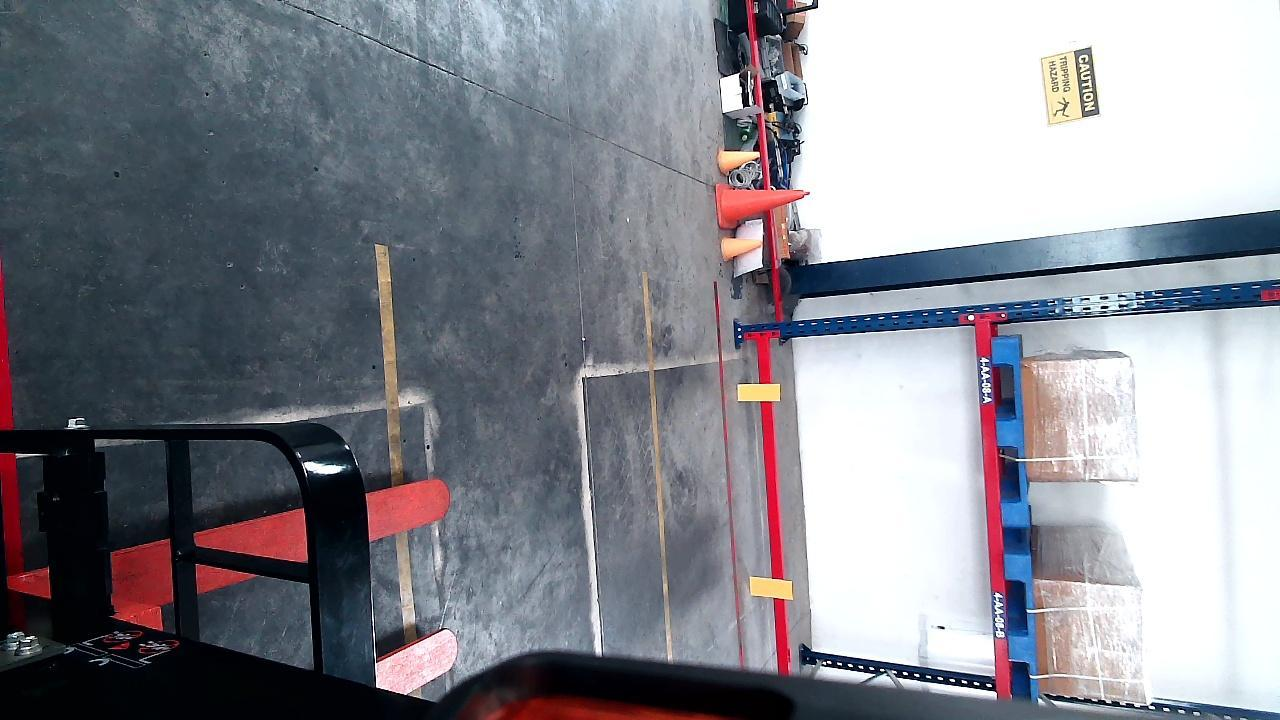red_line: (708, 282, 750, 666)
yellow_line: (646, 271, 674, 656), (379, 242, 403, 485)
